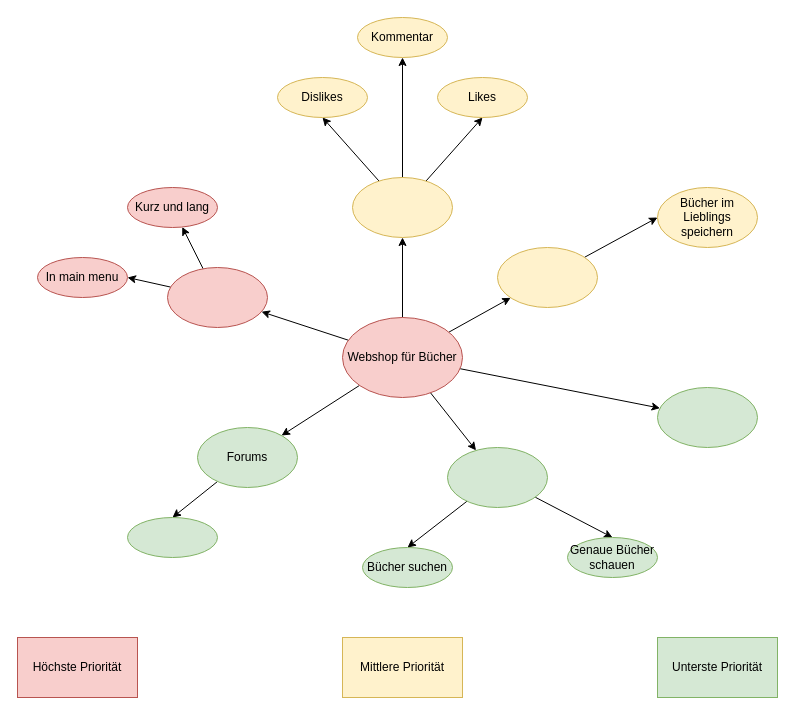
This 795x715 diagram has some shape labels left out. The shapes that lost their labels are listed below. From the top down, each one's centre as x and y in pixels, then its label:
pixel 402 207: Bewertungen
pixel 217 297: Bücher
pixel 547 277: Lieblings (Favorites)
pixel 707 417: Bestellungen
pixel 497 477: Suchleiste
pixel 172 537: Diskussionen
